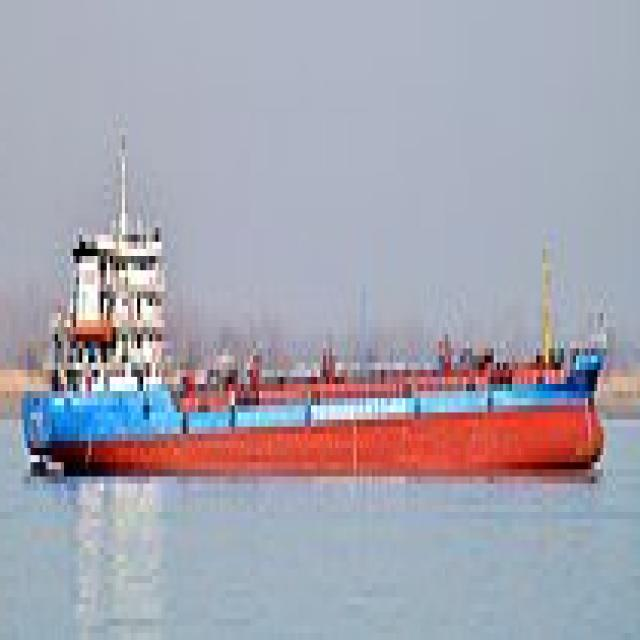Tanker: (21, 121, 616, 476)
